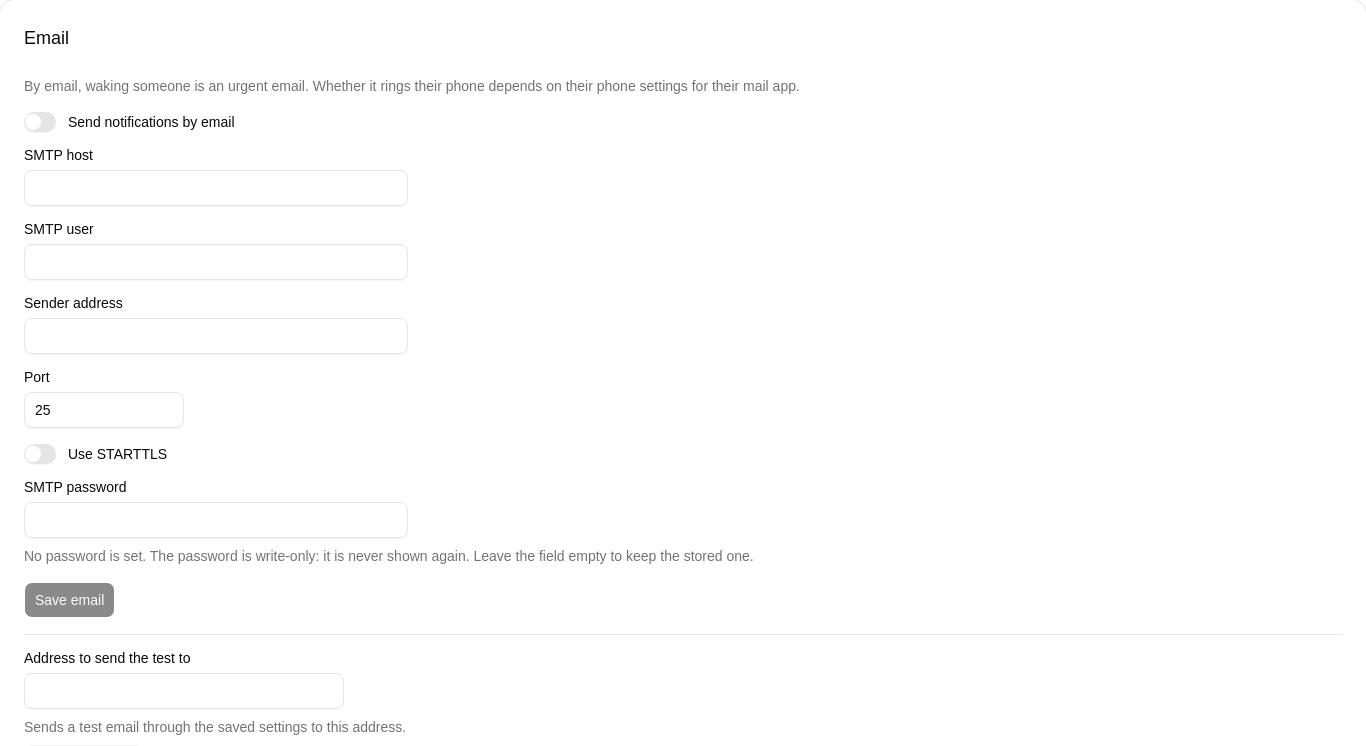
Test: shows the server's message when email is enabled without a host
Click the switch named "Send notifications by email": (40, 122) left=24, top=112, right=56, bottom=132
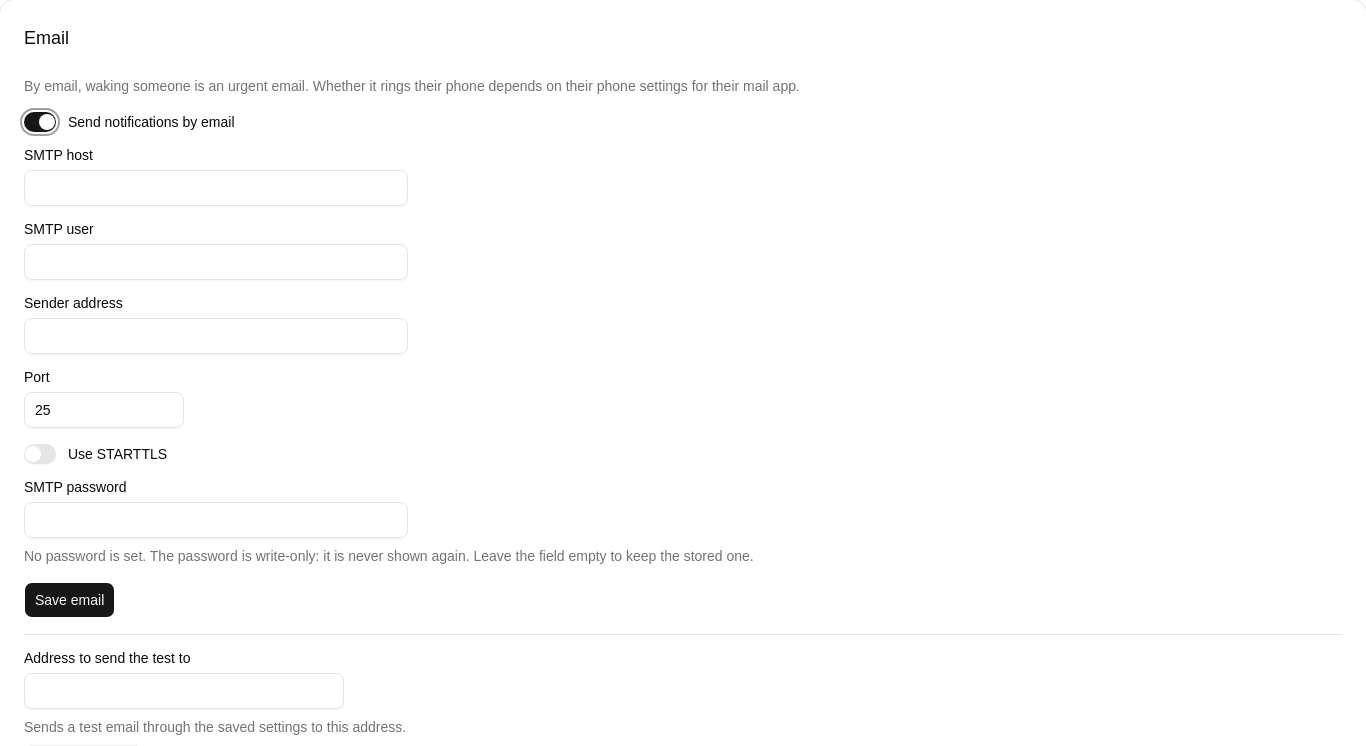
Click the button "Save email": (70, 600) left=24, top=582, right=115, bottom=618
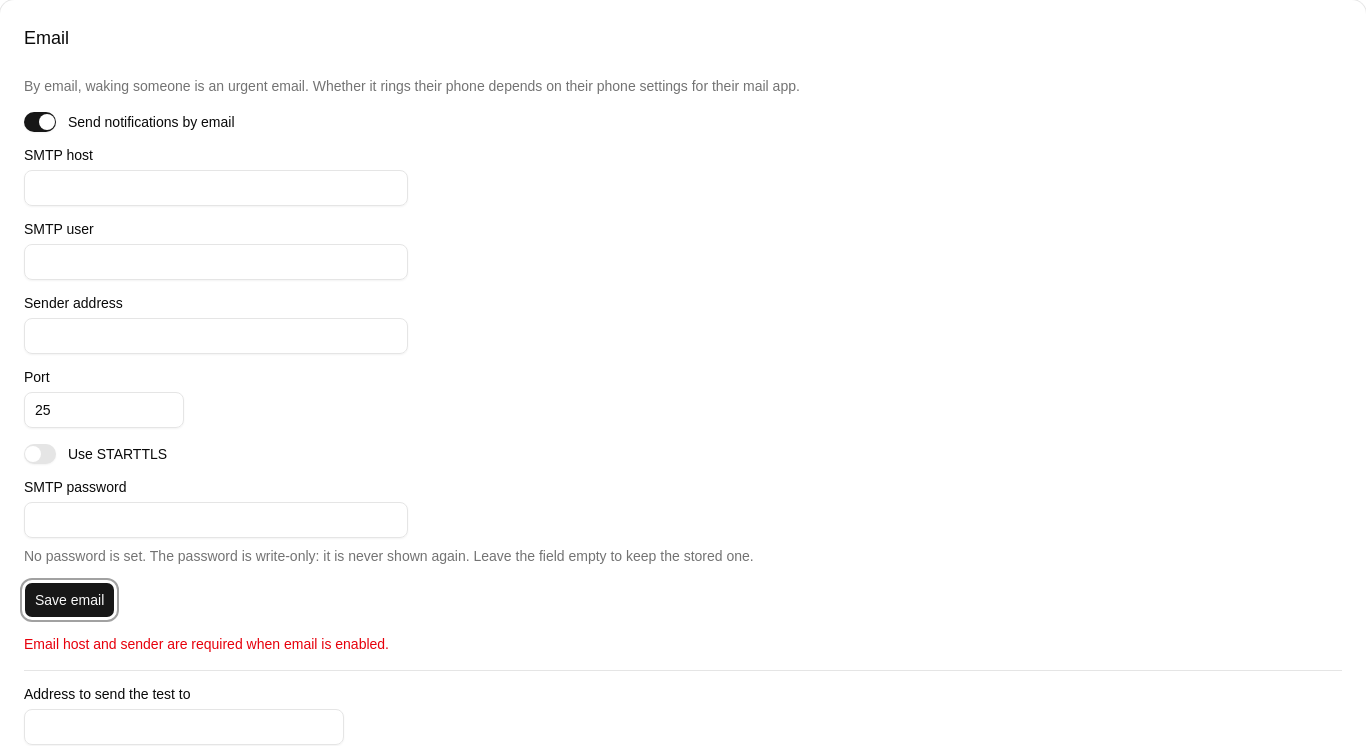
Expected: the message reads "Email host and sender are required when email is enabled.", left=24, top=636, right=389, bottom=652
